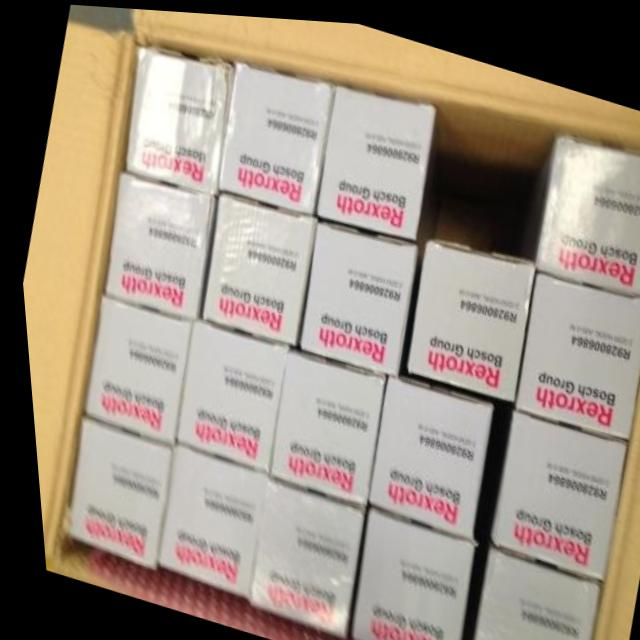box: (467, 397, 619, 575), (391, 231, 533, 402), (507, 260, 640, 433), (358, 368, 486, 533), (517, 125, 640, 288), (239, 470, 358, 635), (311, 75, 435, 233), (260, 344, 381, 500), (193, 192, 313, 347), (294, 215, 414, 370), (165, 318, 285, 471), (337, 499, 467, 640), (215, 61, 333, 213), (99, 167, 215, 319), (148, 445, 260, 600), (58, 410, 166, 569), (76, 292, 187, 445), (122, 42, 231, 192), (451, 534, 593, 640)
